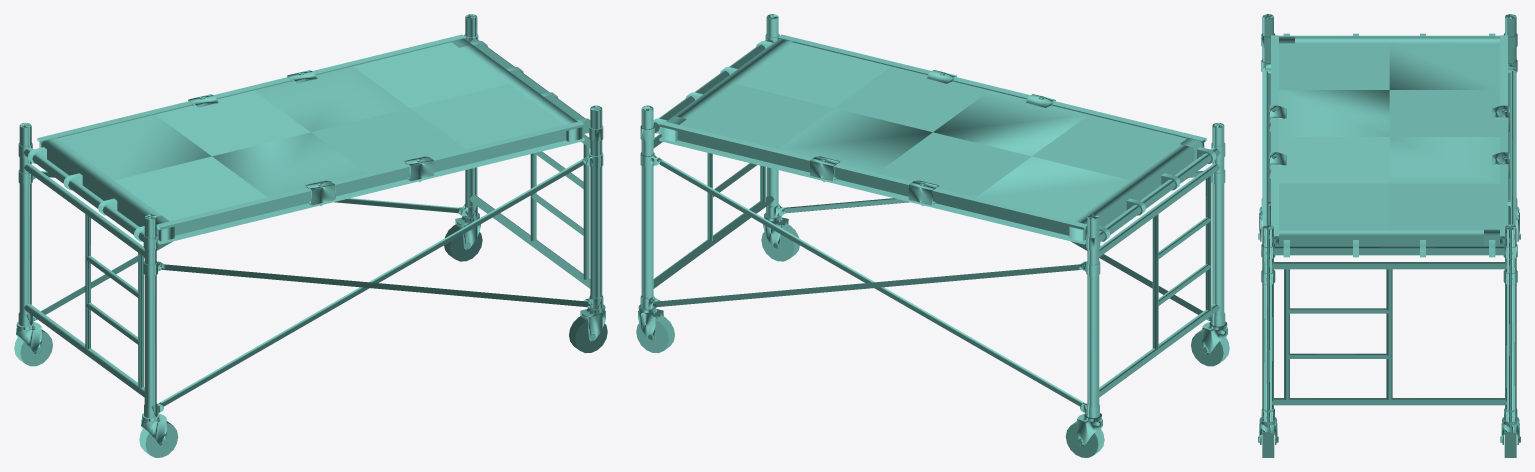
File: uee_lawless_prop_scaffold_base_01.glb
3 renders of one model, left to right at view 1: azimuth 30°, elevation 25°; view 2: azimuth 150°, elevation 25°; view 3: azimuth 270°, elevation 25°, orthographic. The views are drawn at different scales.
Bounding box in the file's own units: 4.02 × 2 × 2.04.
